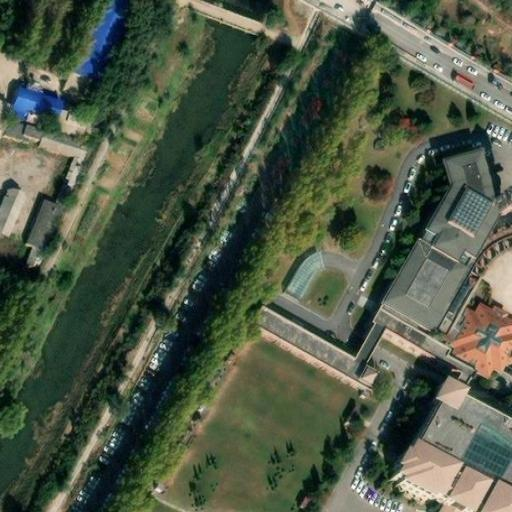building: (382, 145, 504, 341), (252, 307, 477, 391), (393, 386, 512, 512), (444, 300, 512, 380), (5, 85, 67, 133), (26, 196, 66, 248), (471, 227, 512, 275), (288, 252, 329, 297), (57, 101, 97, 142)
